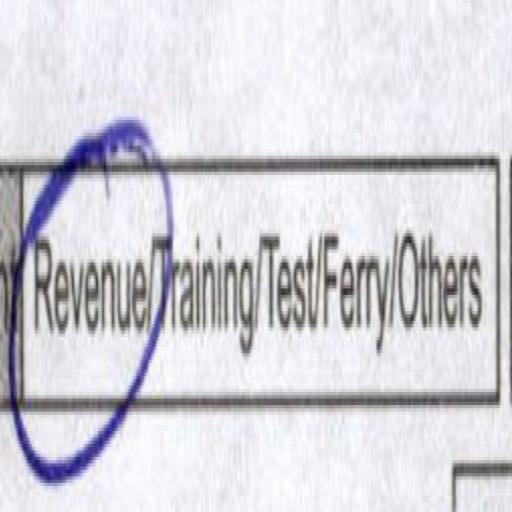check: (27, 108, 147, 456)
